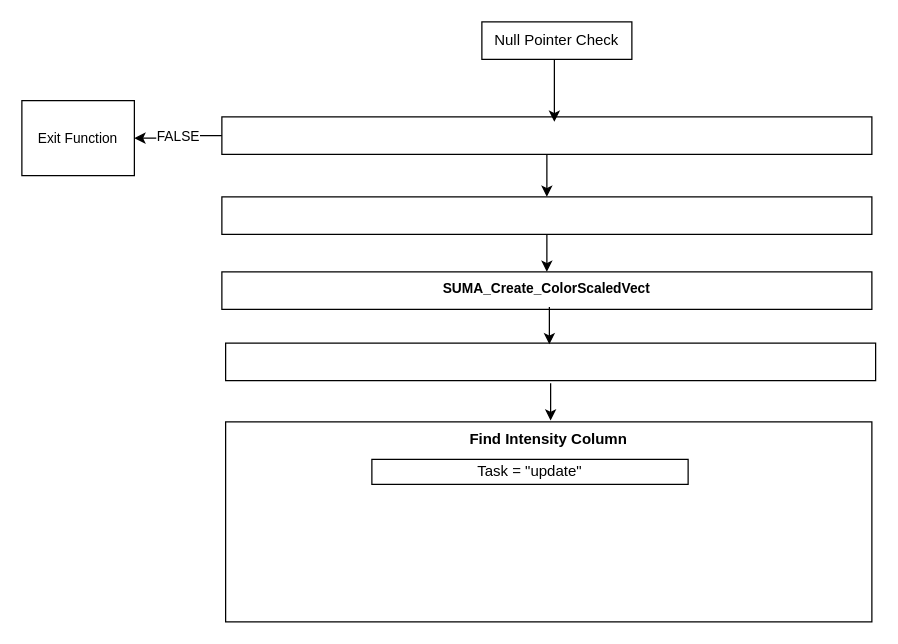
Some shapes in this 898 by 644 pixel diagram are drawn without their labels. The shapes that lost their labels are listed below. From the top down, each one's centre as x and y in pixels, then its label:
At (x=546, y=135): "SUMA_Find_ColorMap ( char *Name, SUMA_COLOR_MAP **CMv, int N_maps, int sgn)".
At (x=546, y=215): "Determine Opt->ColsContMode".
At (x=550, y=361): "Threshold?".
